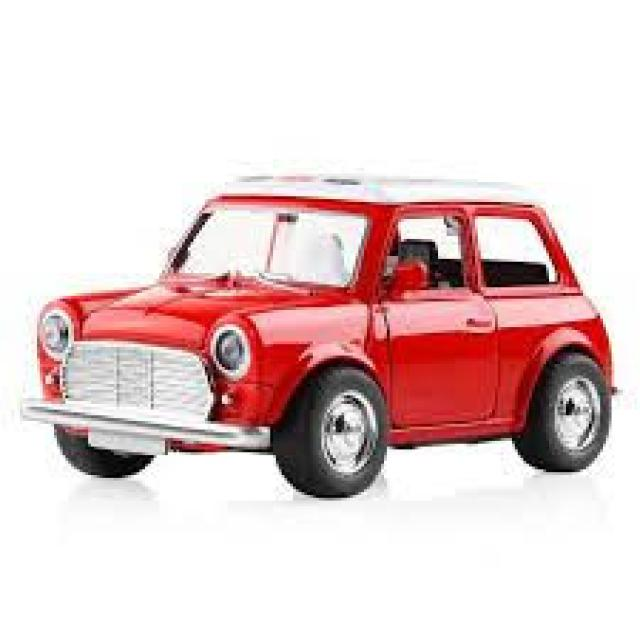Car: (17, 170, 617, 498)
